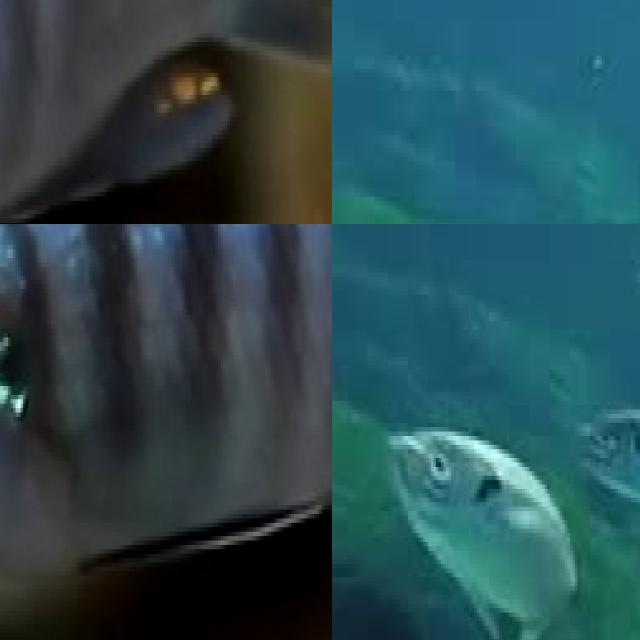fish: (0, 0, 332, 224)
